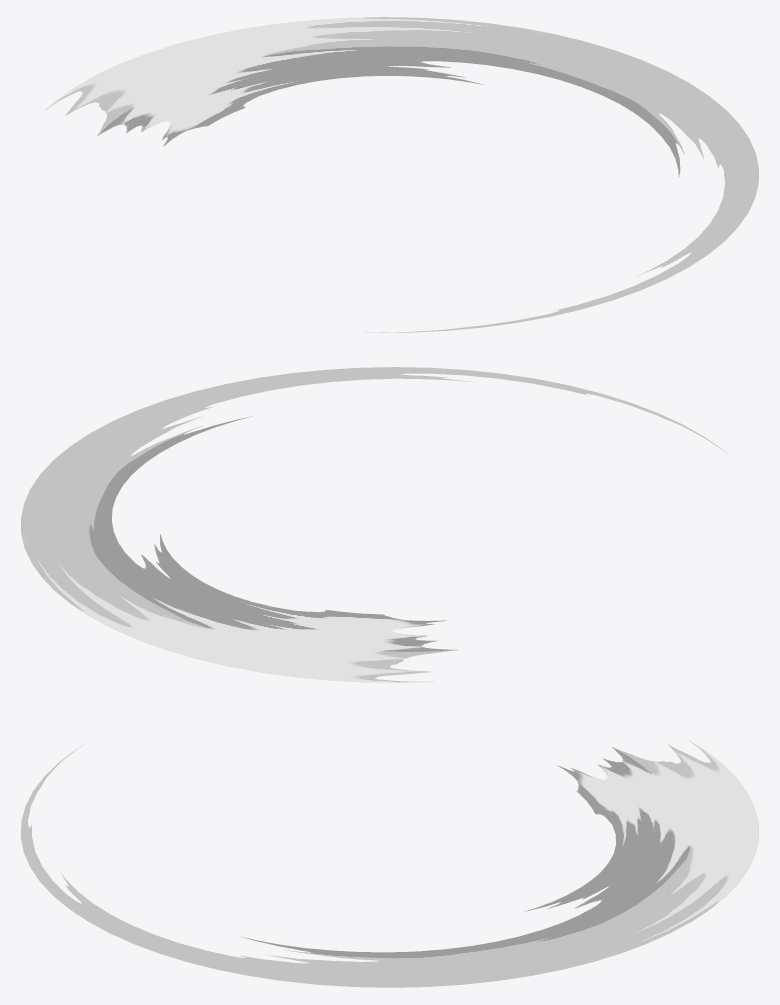
File: L34_cwh_huan_010.FBX
3 views of the same model, one above another, from view 1: azimuth 30°, elevation 25°; view 2: azimuth 150°, elevation 25°; view 3: azimuth 270°, elevation 25° (orthographic).
Parts seen in each view (by area): view 1: L34_cwh_huan_010; view 2: L34_cwh_huan_010; view 3: L34_cwh_huan_010.
Boxes of the visible parts, left/top/right/bottom form: L34_cwh_huan_010: left=45, top=17, right=758, bottom=332; L34_cwh_huan_010: left=21, top=367, right=729, bottom=682; L34_cwh_huan_010: left=20, top=740, right=759, bottom=987.
Size of the model in its own units: 11.3 by 1.96e-06 by 12.99.
